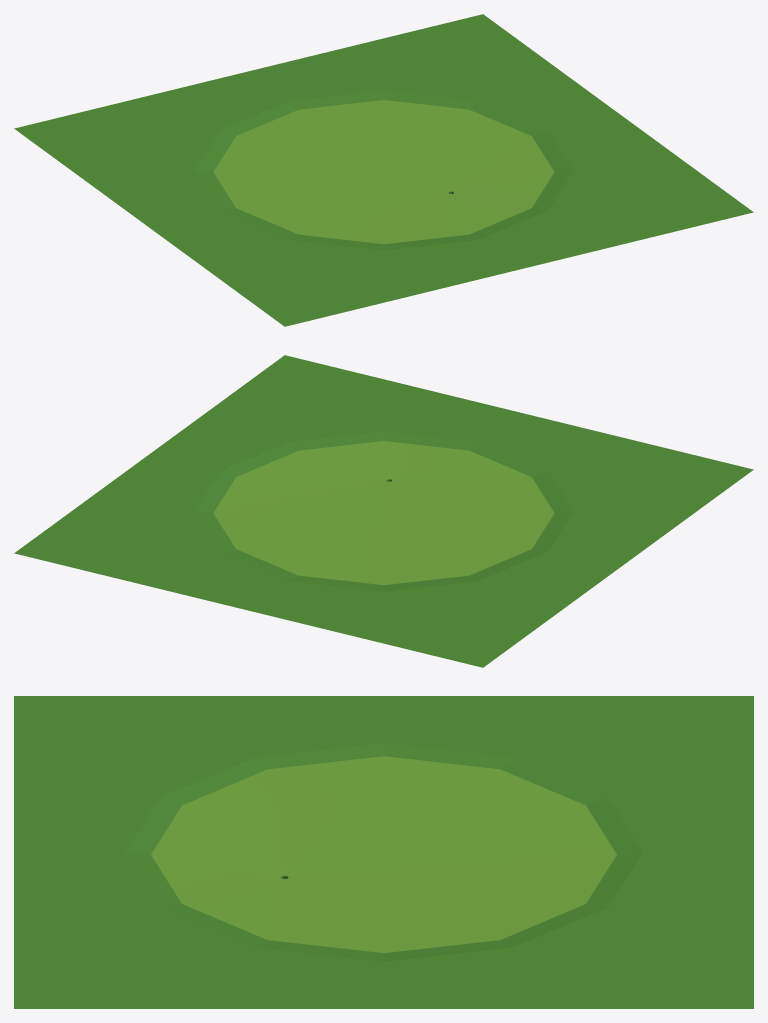
Rendered from tiles-nb_tile-golf-green-circle-nb.fbx.
3 views of the same model, one above another, from view 1: azimuth 30°, elevation 25°; view 2: azimuth 150°, elevation 25°; view 3: azimuth 270°, elevation 25° (orthographic). The views are drawn at different scales.
Visible parts, largest first — view 1: tiles_nb_tile_golf_green_circle_nb; view 2: tiles_nb_tile_golf_green_circle_nb; view 3: tiles_nb_tile_golf_green_circle_nb.
Boxes of the visible parts, bbox=[...] form: tiles_nb_tile_golf_green_circle_nb: bbox=[14, 14, 753, 326]; tiles_nb_tile_golf_green_circle_nb: bbox=[14, 355, 753, 667]; tiles_nb_tile_golf_green_circle_nb: bbox=[14, 696, 753, 1008].
Size of the model in its own units: 200 by 2.65 by 200.
